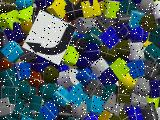Right: (23, 10, 77, 66)
